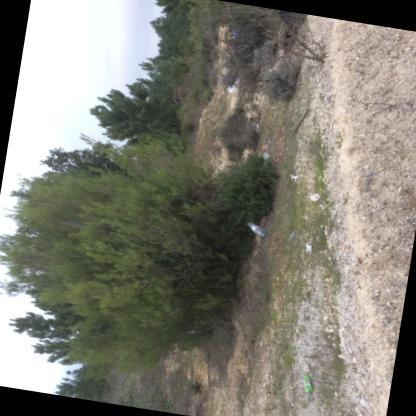Paper: (302, 374, 312, 391)
Plastic: (247, 220, 265, 235), (262, 233, 265, 235)
Waste: (305, 242, 311, 253), (289, 231, 294, 237)
